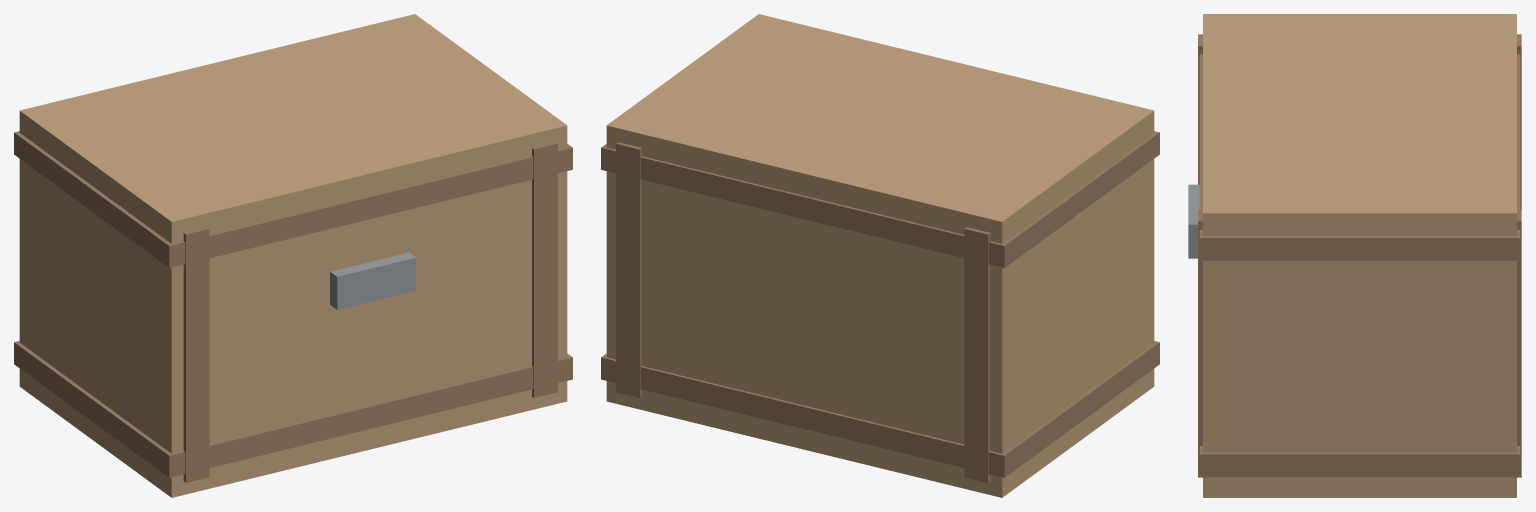
File: storage_box.glb
The picture shows the model from 3 angles, left to right: view 1: azimuth 30°, elevation 25°; view 2: azimuth 150°, elevation 25°; view 3: azimuth 270°, elevation 25°; orthographic projection. The views are drawn at different scales.
Parts seen in each view (by area): view 1: storage_box; view 2: storage_box; view 3: storage_box.
Part boxes in pixels (x1,y1,x2,y2): storage_box: (14, 14, 572, 497); storage_box: (601, 14, 1159, 497); storage_box: (1188, 14, 1521, 497).
Bounding box in the file's own units: 0.918 × 0.6 × 0.637.
